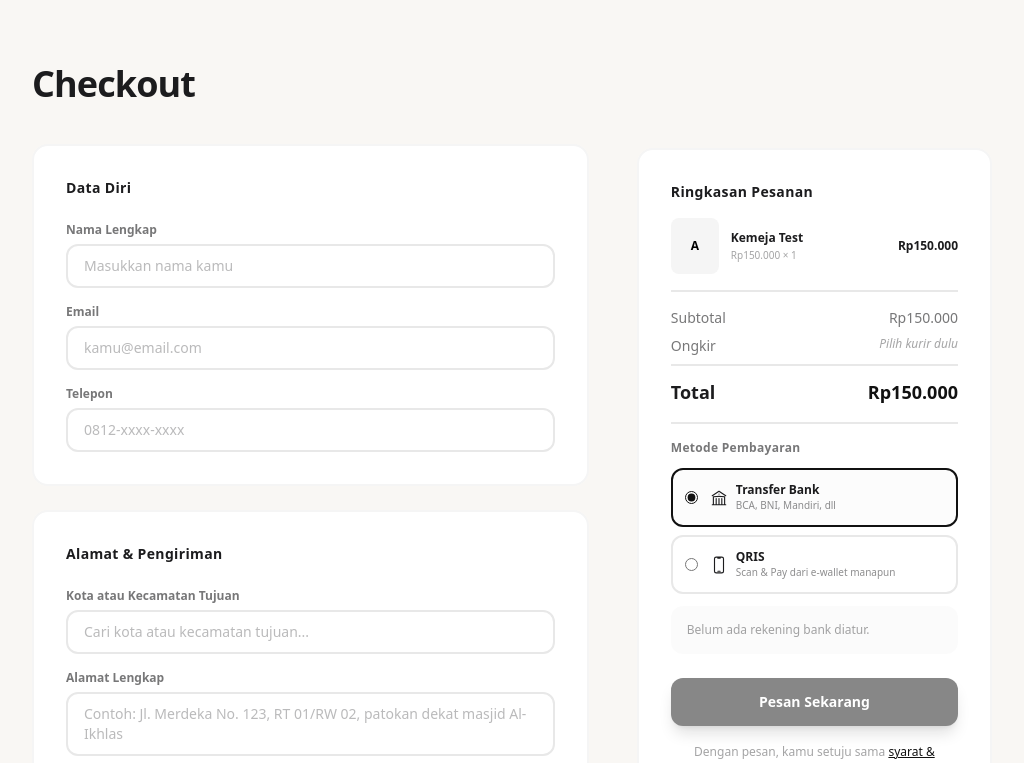
Test: CheckoutPage — Autocomplete Search › selectDestination mengisi input dan menutup dropdown
The image size is (1024, 763).
Step 1. Type "jakarta" into the field with placeholder "Cari kota atau kecamatan tujuan..." → (310, 632), box top-left (66, 610), bottom-right (555, 654)
Wait 400 ms
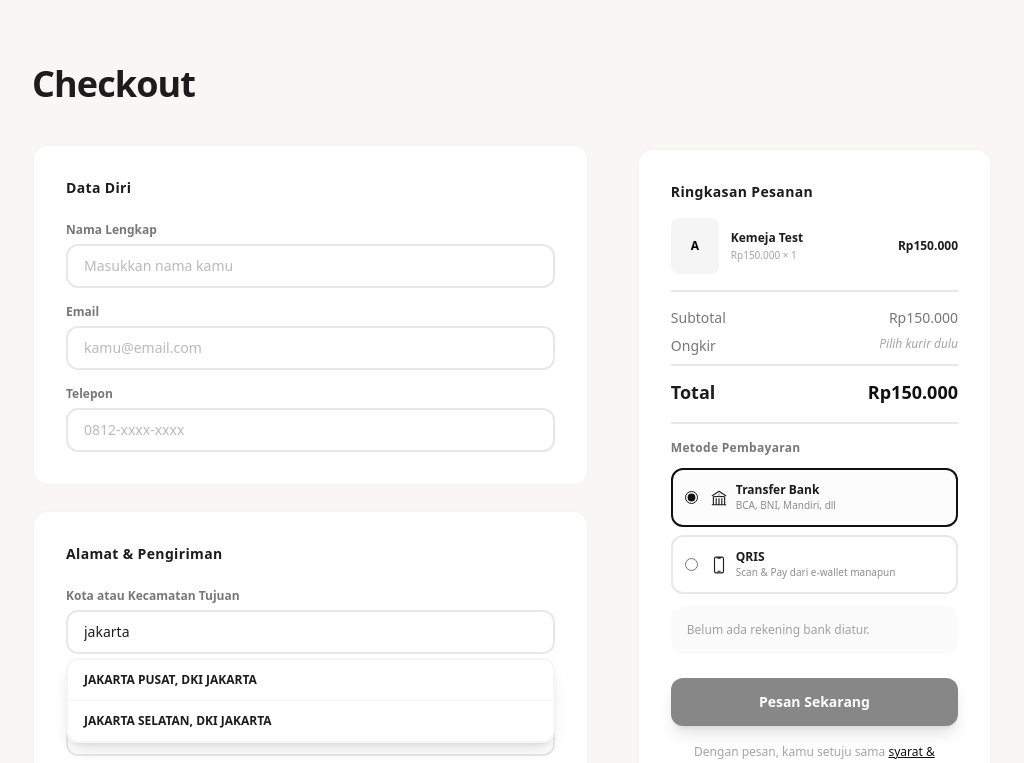
Step 2. Click the button "JAKARTA PUSAT, DKI JAKARTA" → (170, 680), box top-left (68, 660), bottom-right (553, 701)
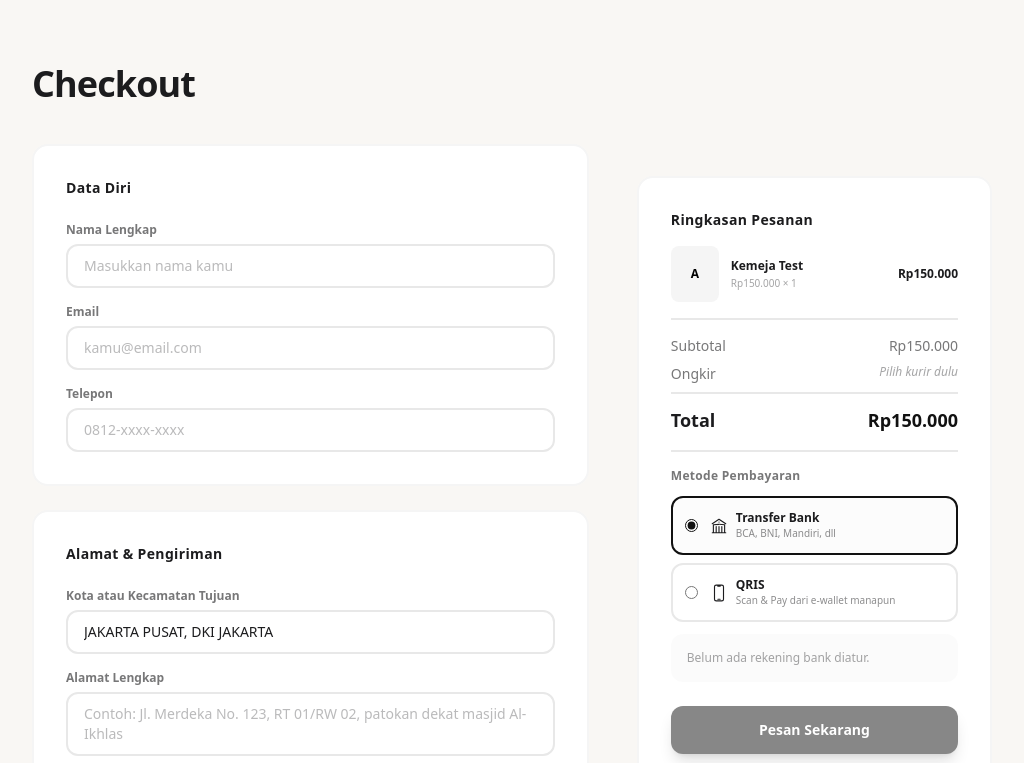
Expected: the 4th field holds "JAKARTA PUSAT, DKI JAKARTA", top-left (66, 610), bottom-right (555, 654)
